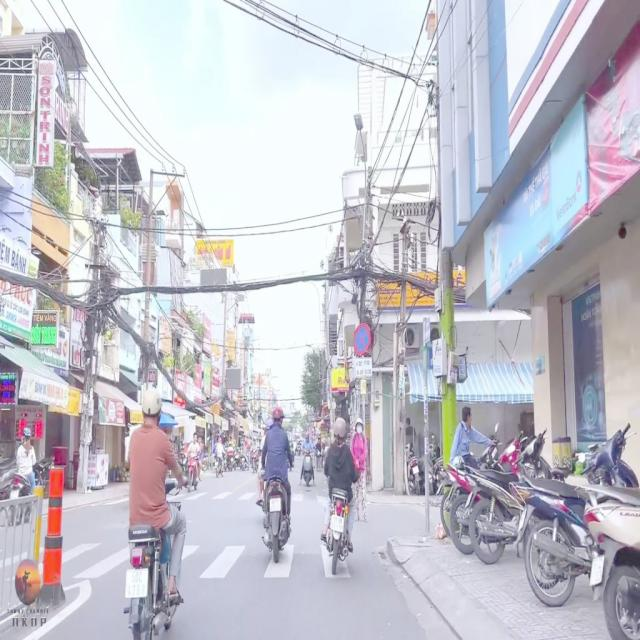cam_dung_xe_va_do_xe: (354, 323, 373, 356)
khac: (354, 360, 372, 380)
